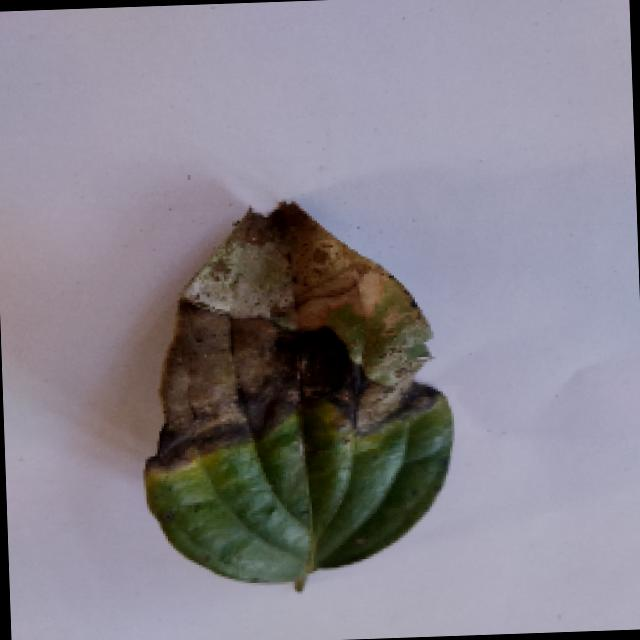footrot: (123, 193, 467, 604)
